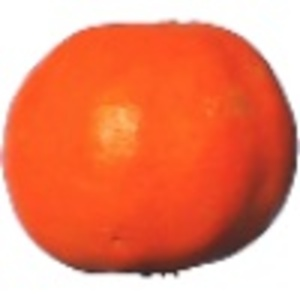tangerina: (1, 17, 300, 278)
